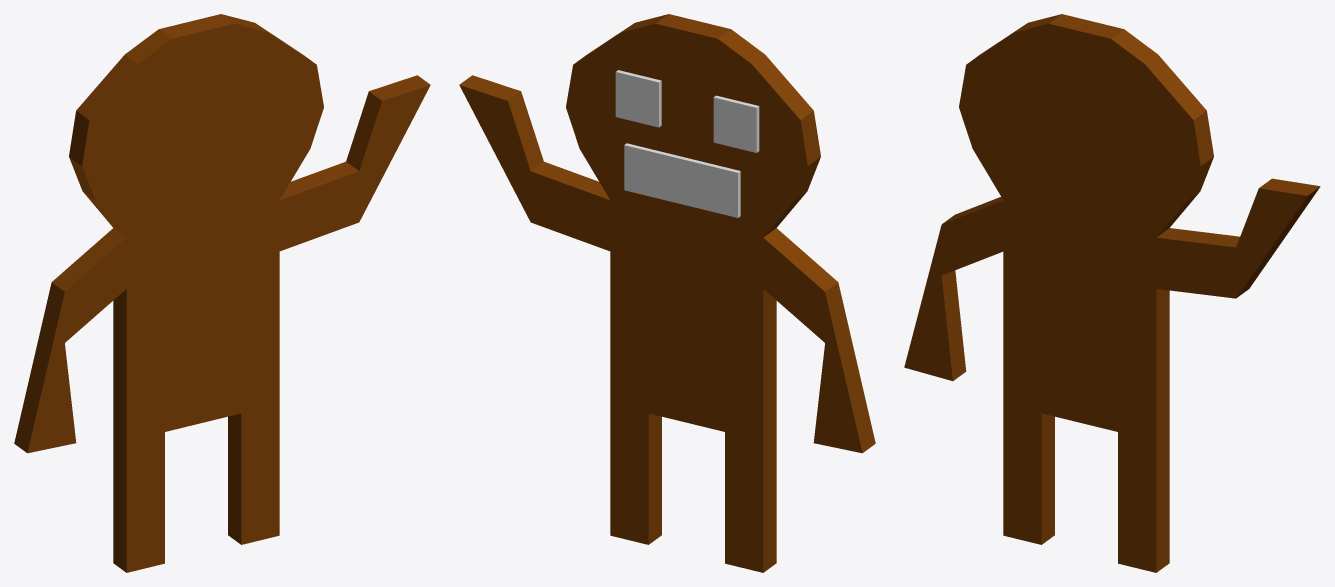
File: target.fbx
3 views of the same model, side by side, from view 1: azimuth 30°, elevation 25°; view 2: azimuth 150°, elevation 25°; view 3: azimuth 330°, elevation 25° (orthographic).
Parts seen in each view (by area): view 1: Plane; view 2: Plane, Plane.003, Plane.001, Plane.002; view 3: Plane.
Boxes of the visible parts, left/top/right/bottom form: Plane: left=14, top=14, right=430, bottom=572; Plane: left=459, top=14, right=875, bottom=572; Plane.003: left=624, top=143, right=740, bottom=217; Plane.001: left=615, top=70, right=661, bottom=127; Plane.002: left=713, top=95, right=759, bottom=152; Plane: left=904, top=14, right=1320, bottom=572.
Size of the model in its own units: 527 by 654 by 35.86.
